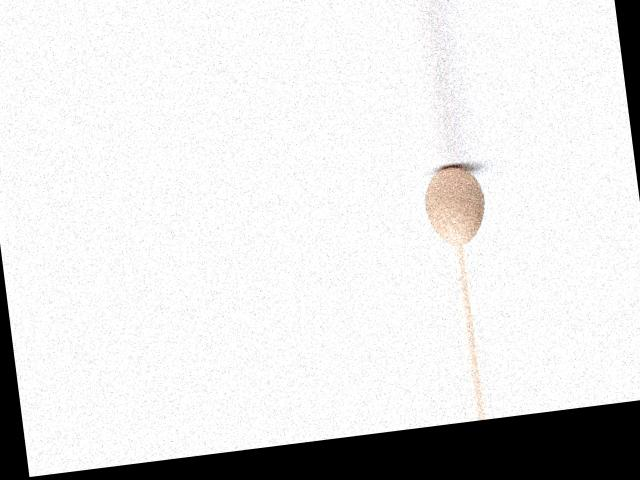egg: (421, 162, 488, 248)
